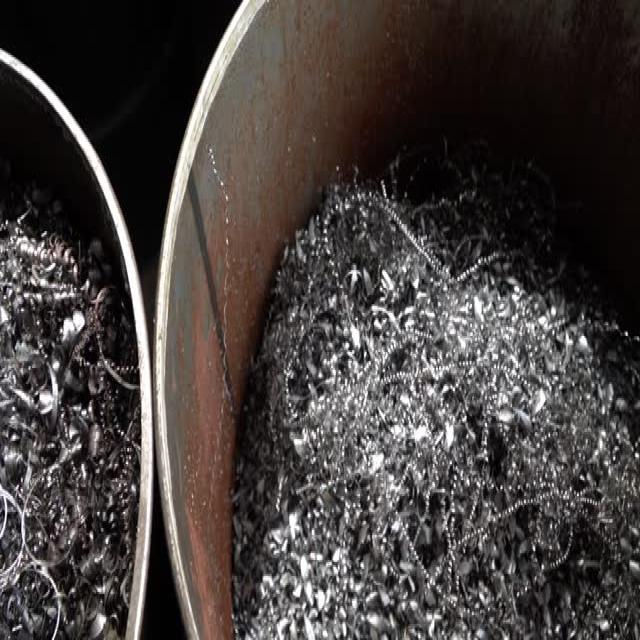metal: (317, 242, 604, 574)
